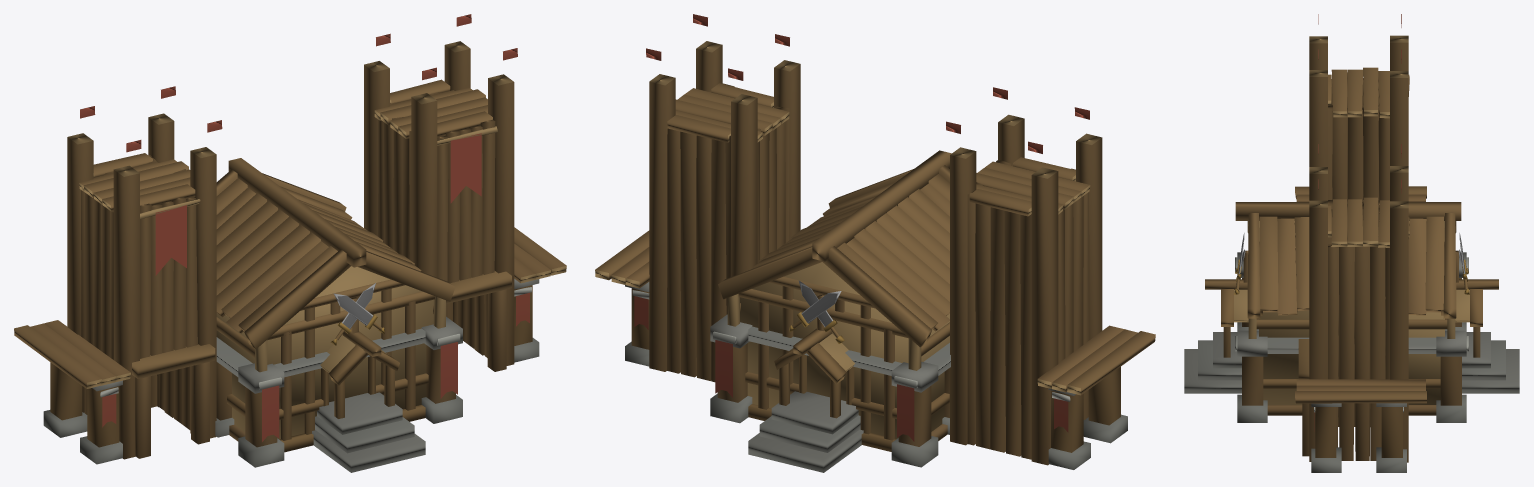
The model's file is tower-1-2.glb.
3 renders of one model, left to right at view 1: azimuth 30°, elevation 25°; view 2: azimuth 150°, elevation 25°; view 3: azimuth 270°, elevation 25°, orthographic. The views are drawn at different scales.
Visible parts, largest first — view 1: tower:1-2; view 2: tower:1-2; view 3: tower:1-2.
Boxes of the visible parts, box(x1,y1,x2,y2) form: tower:1-2: box(14, 14, 566, 472); tower:1-2: box(595, 14, 1155, 472); tower:1-2: box(1184, 14, 1519, 472).
Bounding box in the file's own units: 2.4 × 1.49 × 1.61.
